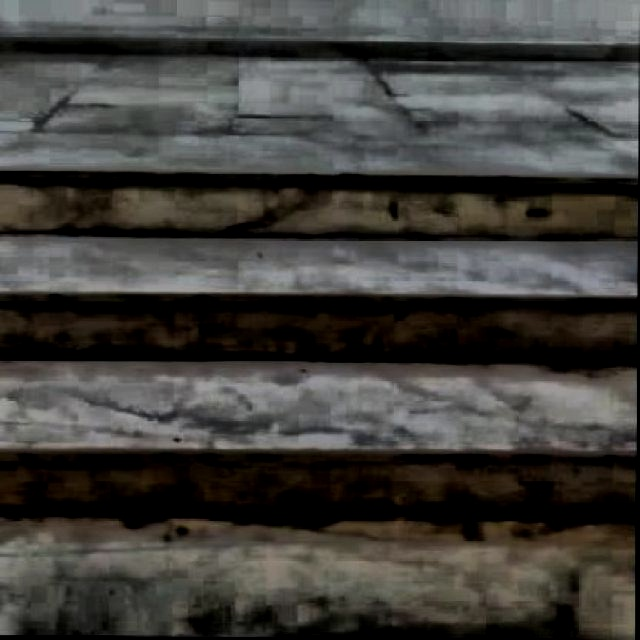stair: (2, 149, 640, 638)
